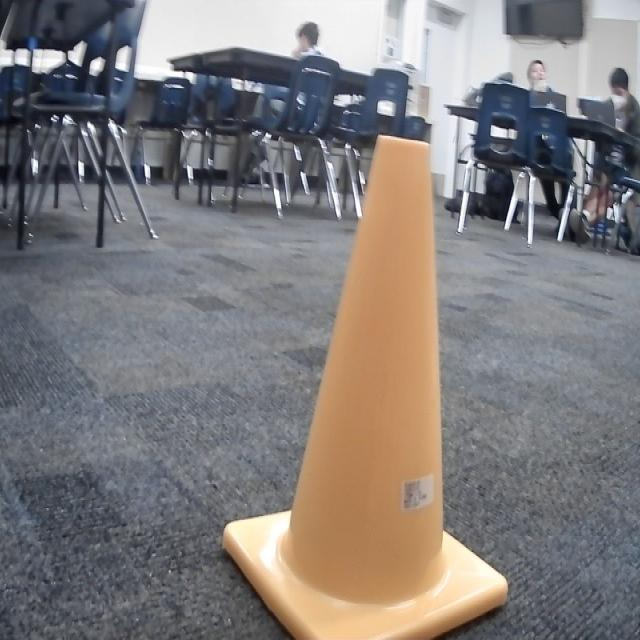cone: (219, 130, 510, 640)
